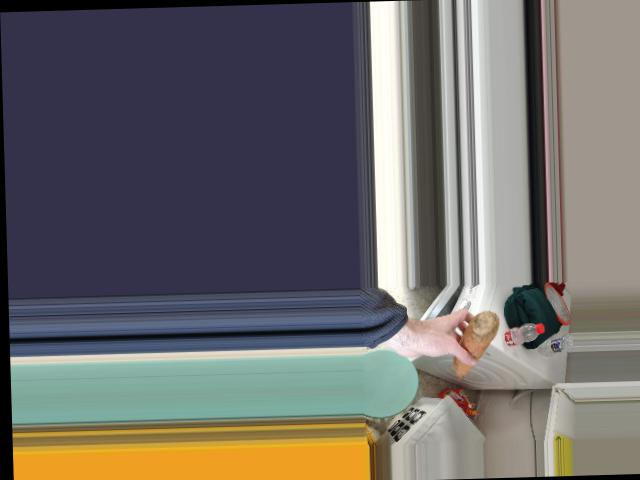sweet_potato: (454, 311, 501, 377)
